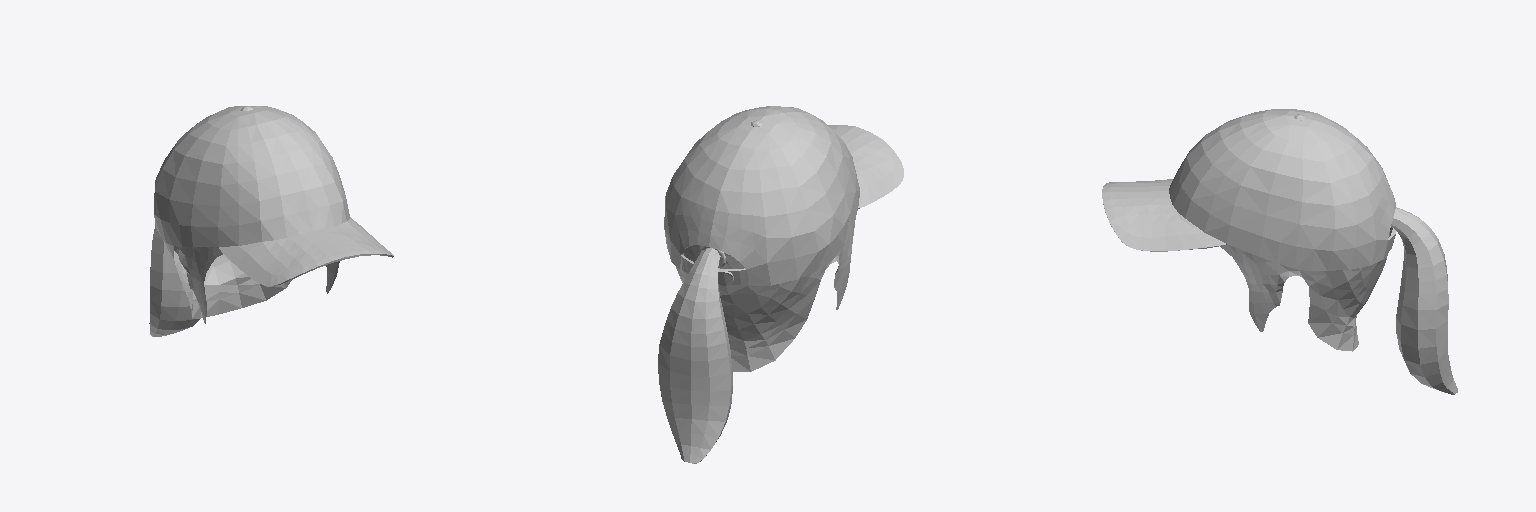
File: BaseballHat_Hair_01.obj
3 renders of one model, left to right at view 1: azimuth 30°, elevation 25°; view 2: azimuth 150°, elevation 25°; view 3: azimuth 270°, elevation 25°, orthographic.
Size of the model in its own units: 16.47 by 28.4 by 32.41.